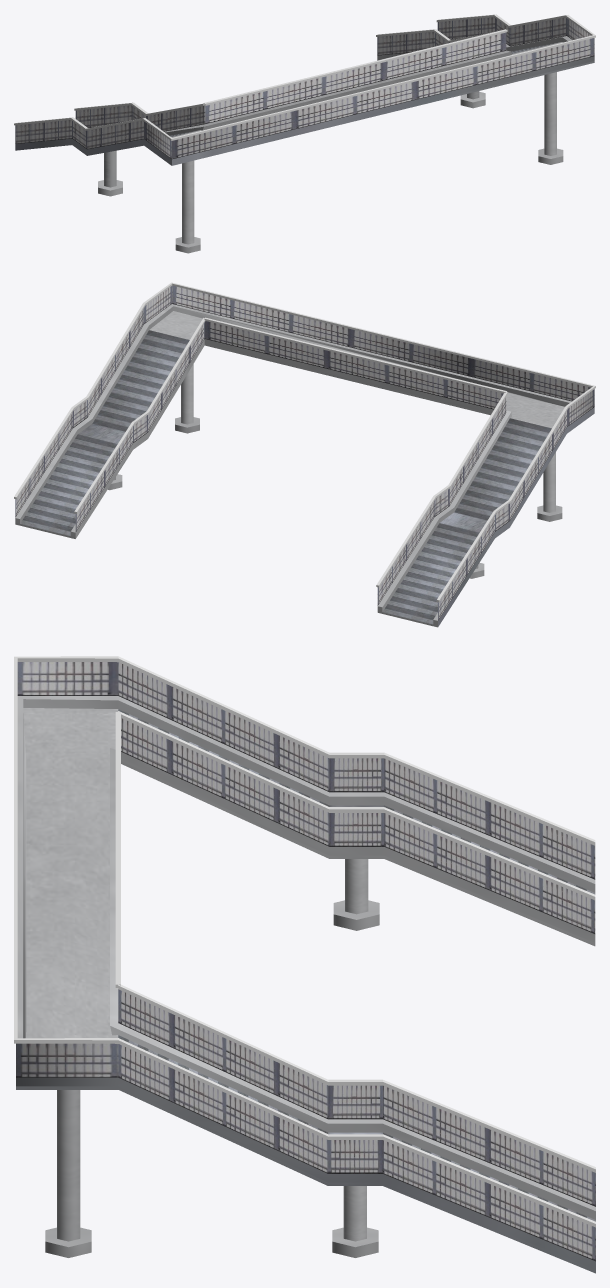
The picture shows the model from 3 angles, top to bottom: view 1: azimuth 30°, elevation 25°; view 2: azimuth 150°, elevation 25°; view 3: azimuth 270°, elevation 25°; orthographic projection. The views are drawn at different scales.
Visible parts, largest first — view 1: 5c4ca578bc95228b8412c35e.001; view 2: 5c4ca578bc95228b8412c35e.001; view 3: 5c4ca578bc95228b8412c35e.001.
Boxes of the visible parts, x1=… form: 5c4ca578bc95228b8412c35e.001: x1=14, y1=14, x2=595, y2=253; 5c4ca578bc95228b8412c35e.001: x1=14, y1=282, x2=595, y2=627; 5c4ca578bc95228b8412c35e.001: x1=14, y1=656, x2=595, y2=1273.
Bounding box in the file's own units: 28.22 × 8.04 × 18.08.
1 material, 1 textured.
